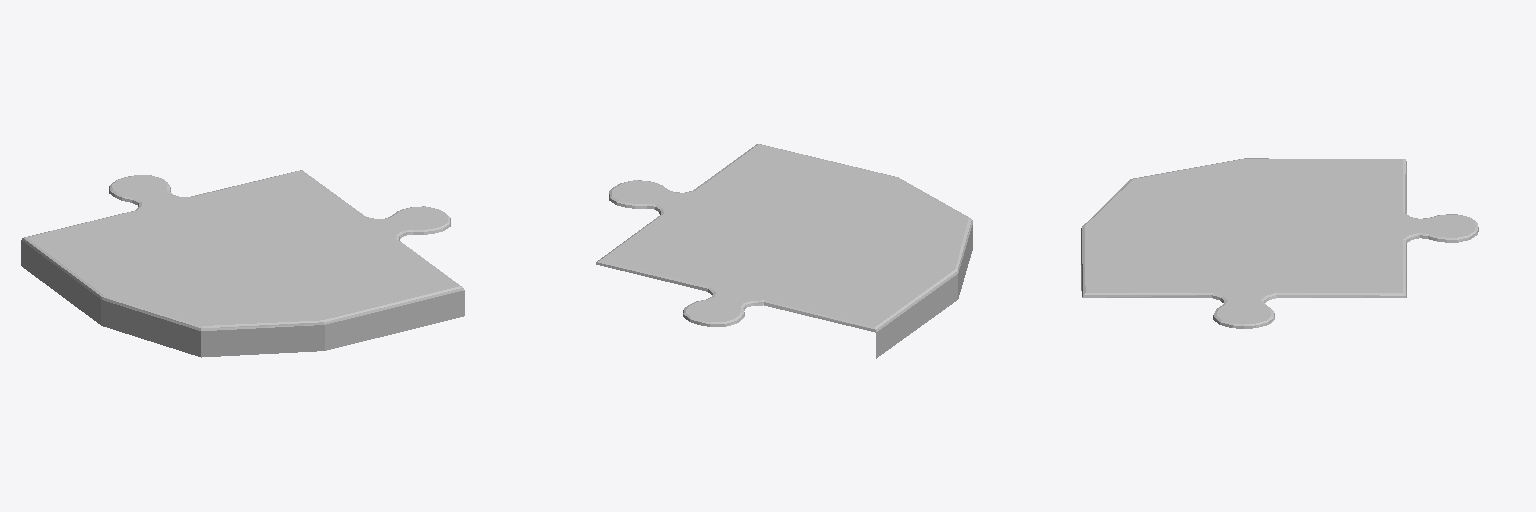
File: Corner Bottom Left Knobs.obj
3 views of the same model, side by side, from view 1: azimuth 30°, elevation 25°; view 2: azimuth 150°, elevation 25°; view 3: azimuth 270°, elevation 25° (orthographic).
Parts seen in each view (by area): view 1: PuzzleCornerBottomLeftKnobs; view 2: PuzzleCornerBottomLeftKnobs; view 3: PuzzleCornerBottomLeftKnobs.
Part boxes in pixels (bbox=[...]): PuzzleCornerBottomLeftKnobs: bbox=[21, 170, 464, 357]; PuzzleCornerBottomLeftKnobs: bbox=[596, 144, 972, 358]; PuzzleCornerBottomLeftKnobs: bbox=[1081, 158, 1478, 328].
Bounding box in the file's own units: 725 × 59.05 × 725.